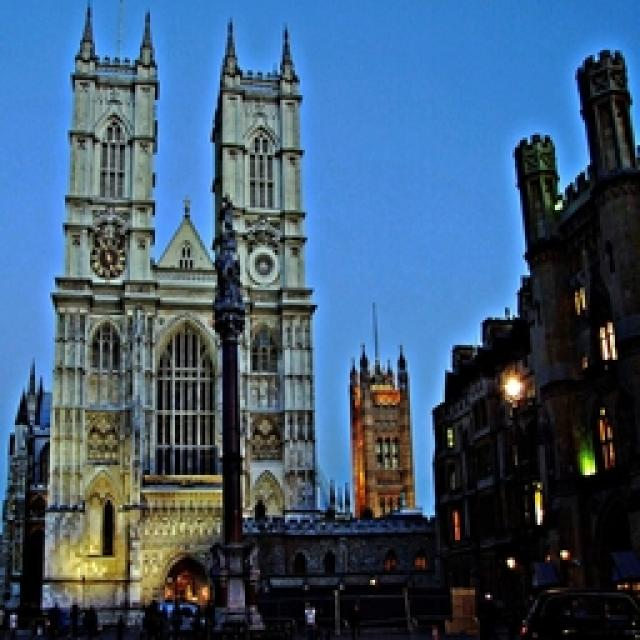Abbey: (36, 1, 326, 629)
